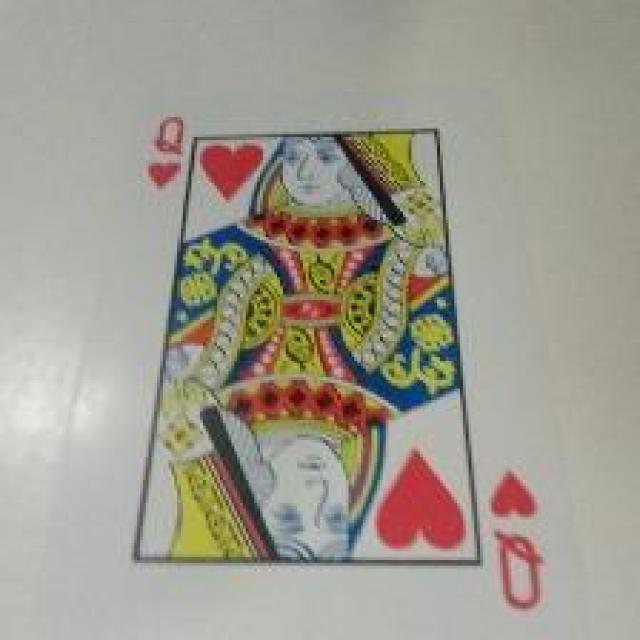Queen of hearts: (105, 96, 566, 614)
